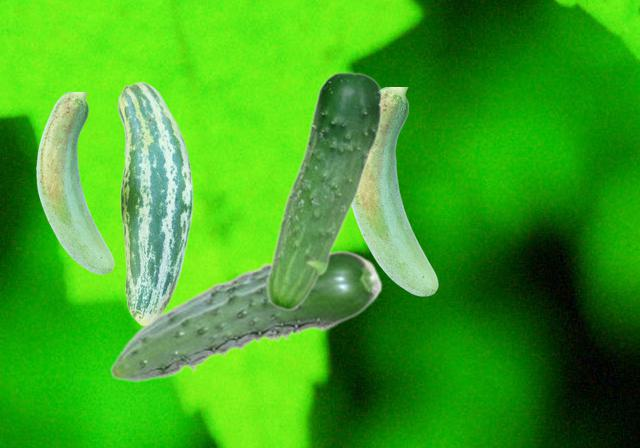cucumber: (109, 250, 382, 381), (265, 71, 382, 310), (117, 81, 192, 325), (352, 87, 437, 295), (36, 92, 113, 273)
